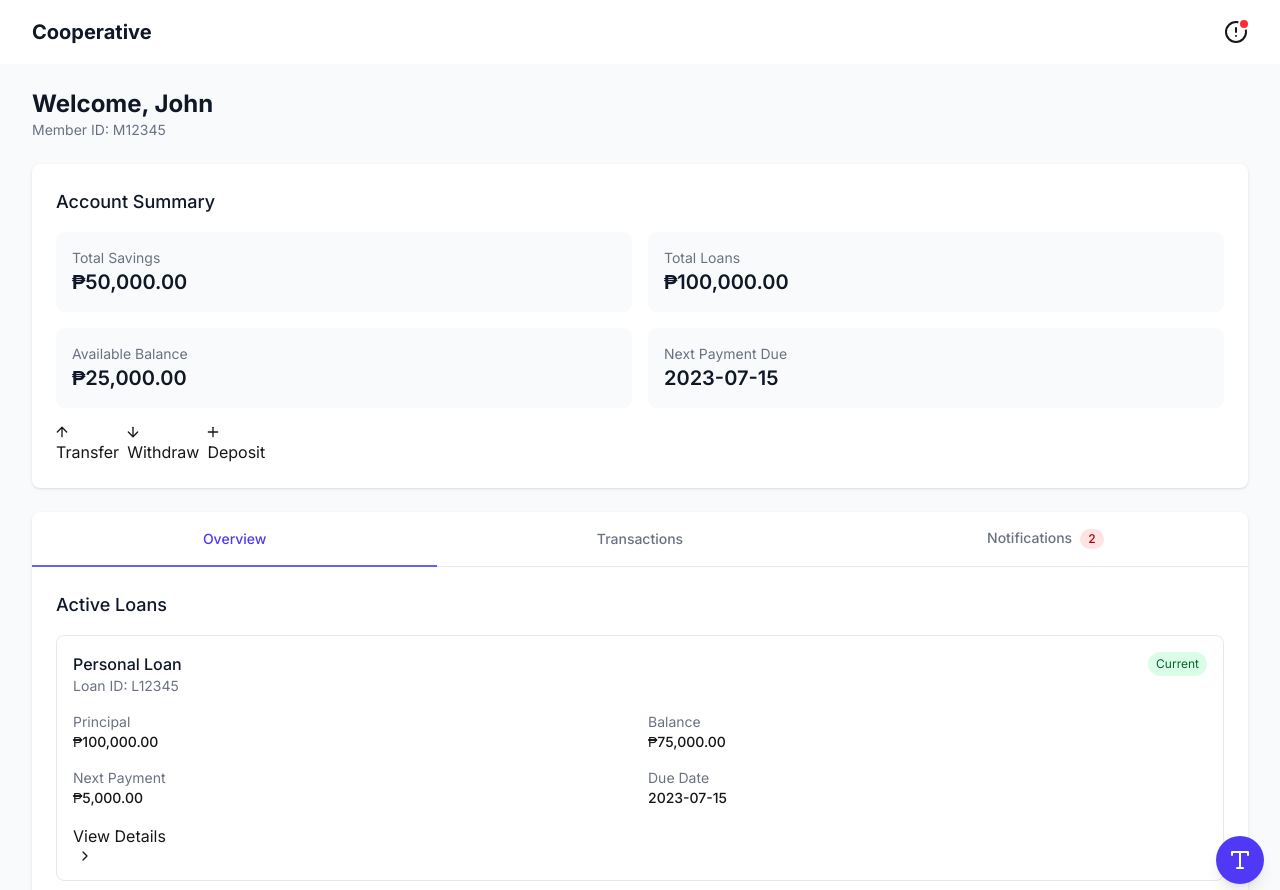
Test case: MemberDashboard › switches to transactions tab when clicked
Click the transactions tab
Click the button "Transactions" at (640, 540), box x1=437 y1=512 x2=843 y2=567
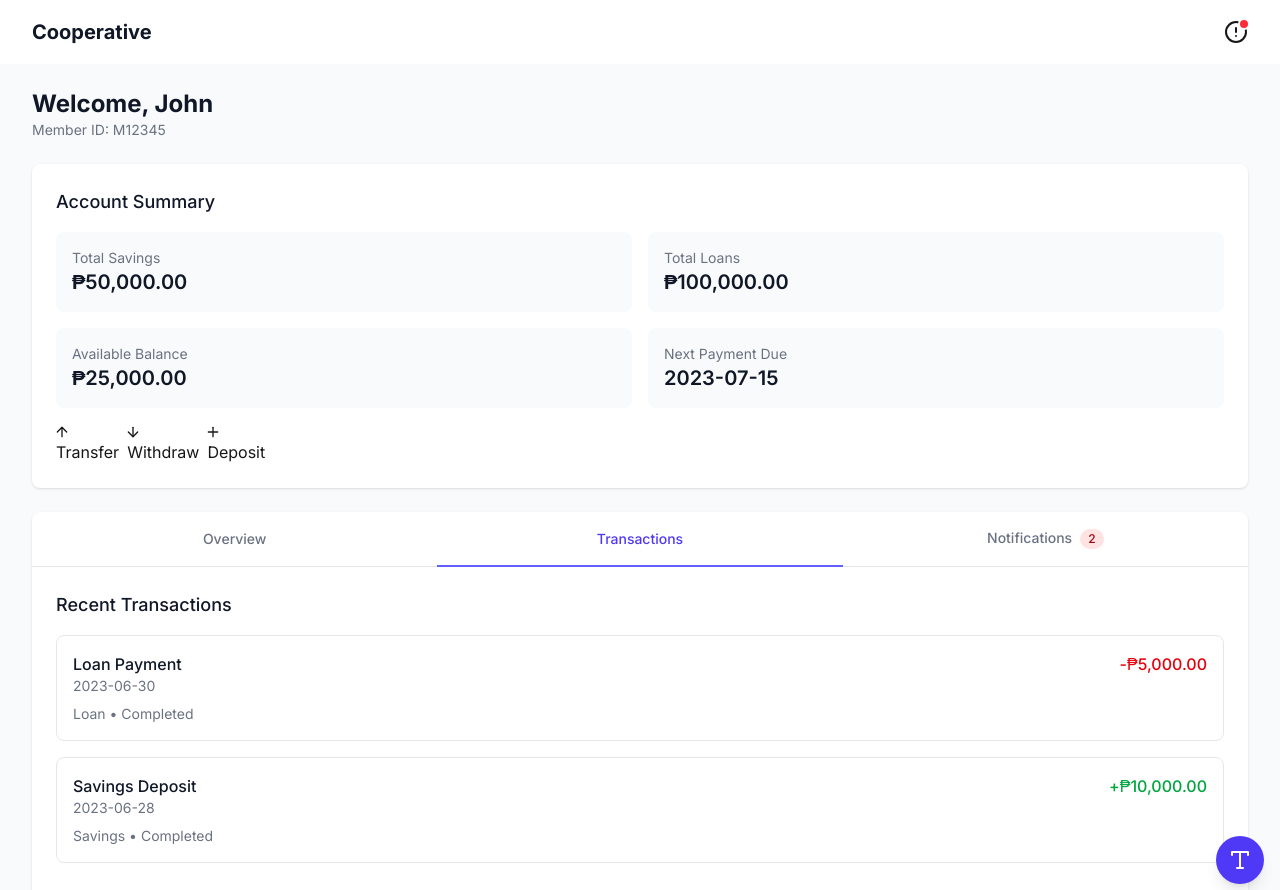
Now the heading "Recent Transactions" is shown, box x1=56 y1=594 x2=232 y2=615
Now the heading "Loan Payment" is shown, box x1=73 y1=652 x2=182 y2=676
Now the heading "Savings Deposit" is shown, box x1=73 y1=774 x2=196 y2=798
